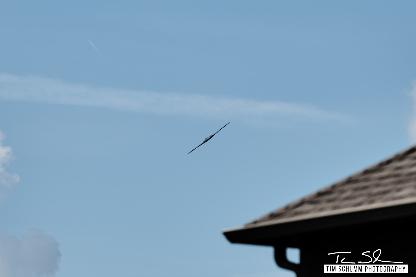B1: (186, 122, 230, 153)
